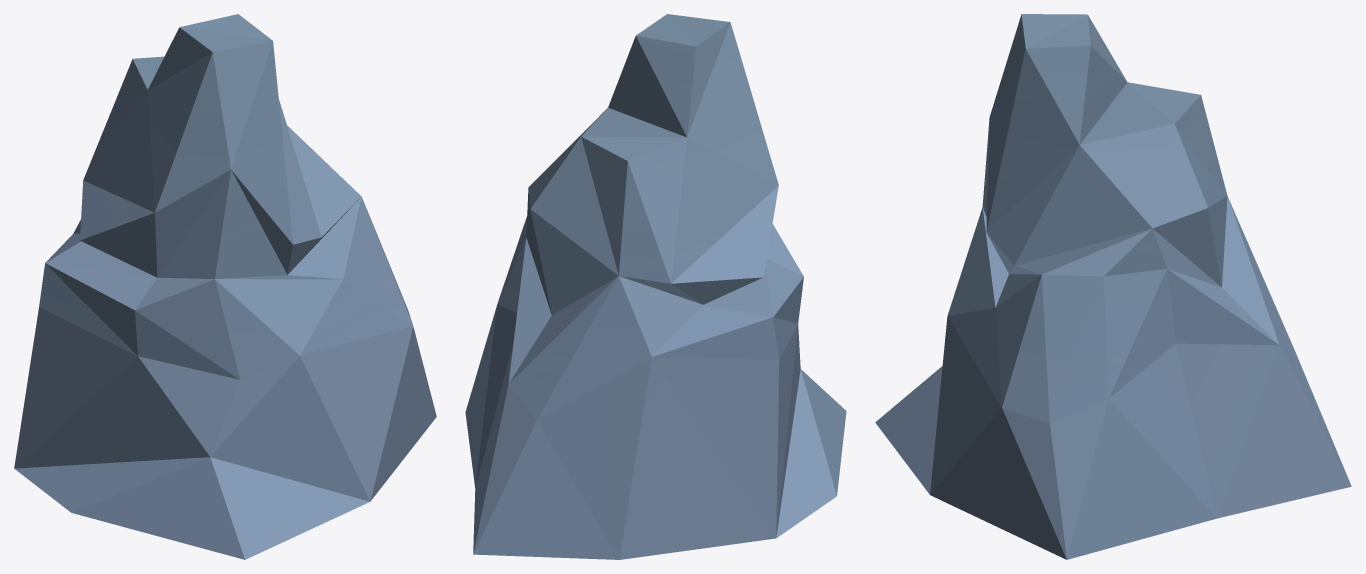
The model's file is ShwedenRock_2.fbx.
3 renders of one model, left to right at view 1: azimuth 30°, elevation 25°; view 2: azimuth 150°, elevation 25°; view 3: azimuth 270°, elevation 25°, orthographic. The views are drawn at different scales.
Parts seen in each view (by area): view 1: ShwedenRock_2; view 2: ShwedenRock_2; view 3: ShwedenRock_2.
Part boxes in pixels (box(x1,y1,x2,y2)): ShwedenRock_2: box(14, 14, 436, 559); ShwedenRock_2: box(465, 14, 846, 559); ShwedenRock_2: box(875, 14, 1351, 559).
Size of the model in its own units: 0.7248 by 0.8217 by 0.8277.
1 material, 1 textured.
